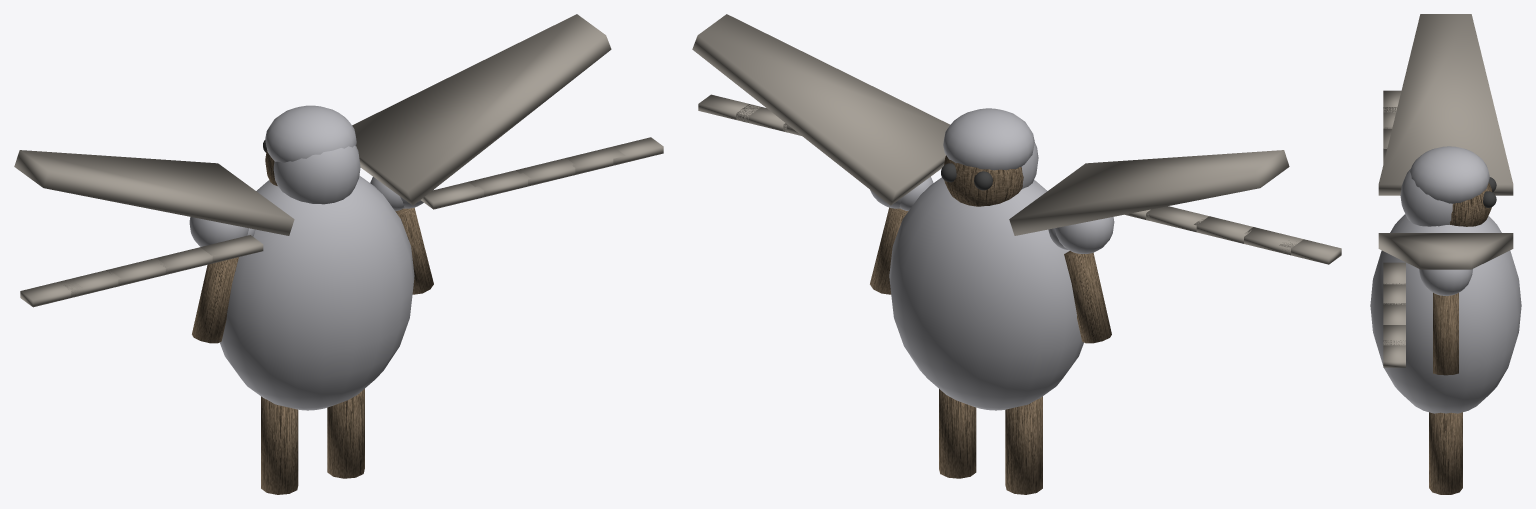
File: fallen-valkyrie.glb
3 views of the same model, side by side, from view 1: azimuth 30°, elevation 25°; view 2: azimuth 150°, elevation 25°; view 3: azimuth 270°, elevation 25° (orthographic). The views are drawn at different scales.
Parts seen in each view (by area): view 1: Torso, Wing.001, Wing, Helmet, HairStrands, Leg, Leg.001, Arm, Arm.001, Pauldron, Feather.004, Feather.005 (+8 smaller); view 2: Torso, Wing.001, Wing, Helmet, Leg, Leg.001, Arm, Head, Pauldron, Arm.001, Feather.009, Feather.003 (+4 smaller); view 3: Torso, Wing, Wing.001, Helmet, Leg.001, Arm.001, HairStrands, Pauldron.001, Head, Feather.009, Feather.005, Feather.007 (+5 smaller).
Part boxes in pixels (left/top/right/bottom): Torso: left=219, top=175, right=414, bottom=410; Wing.001: left=352, top=14, right=611, bottom=205; Wing: left=14, top=150, right=294, bottom=235; Helmet: left=265, top=105, right=356, bottom=162; HairStrands: left=273, top=145, right=360, bottom=204; Leg: left=261, top=396, right=298, bottom=494; Leg.001: left=327, top=389, right=364, bottom=478; Arm: left=192, top=257, right=238, bottom=343; Arm.001: left=395, top=207, right=433, bottom=294; Pauldron: left=189, top=217, right=248, bottom=246; Feather.004: left=20, top=279, right=83, bottom=307; Feather.005: left=421, top=182, right=483, bottom=209; Torso: left=889, top=177, right=1083, bottom=410; Wing.001: left=692, top=14, right=949, bottom=205; Wing: left=1009, top=150, right=1289, bottom=235; Helmet: left=943, top=108, right=1034, bottom=170; Leg: left=1005, top=396, right=1042, bottom=494; Leg.001: left=939, top=389, right=976, bottom=478; Arm: left=1064, top=251, right=1111, bottom=343; Head: left=944, top=155, right=1023, bottom=206; Pauldron: left=1055, top=217, right=1114, bottom=253; Arm.001: left=870, top=207, right=908, bottom=294; Feather.009: left=698, top=94, right=760, bottom=122; Feather.003: left=1244, top=227, right=1303, bottom=255; Torso: left=1370, top=214, right=1521, bottom=413; Wing: left=1378, top=14, right=1513, bottom=195; Wing.001: left=1378, top=233, right=1513, bottom=269; Helmet: left=1410, top=146, right=1489, bottom=203; Leg.001: left=1429, top=412, right=1462, bottom=494; Arm.001: left=1433, top=292, right=1458, bottom=375; HairStrands: left=1400, top=169, right=1452, bottom=226; Pauldron.001: left=1419, top=269, right=1472, bottom=295; Head: left=1450, top=182, right=1492, bottom=226; Feather.009: left=1383, top=340, right=1405, bottom=367; Feather.005: left=1383, top=262, right=1405, bottom=284; Feather.007: left=1383, top=303, right=1405, bottom=324.
Size of the model in its own units: 1.9 by 1.11 by 0.448.
4 materials, 1 textured.
